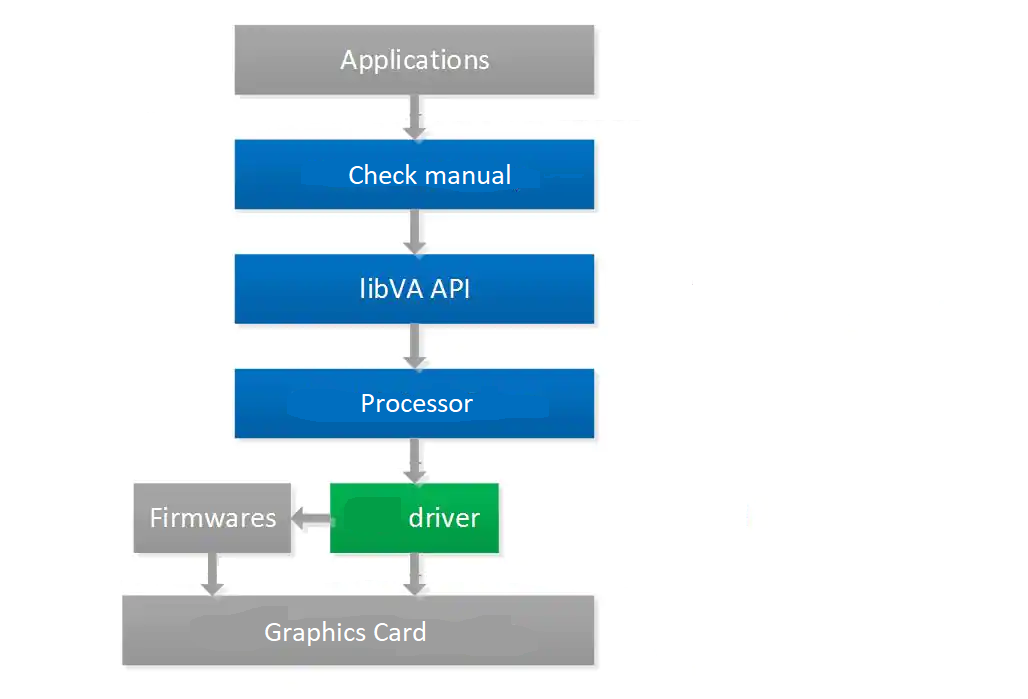arrow: (401, 318, 429, 370), (398, 433, 426, 484), (401, 205, 426, 257), (400, 546, 426, 595), (199, 548, 224, 597), (401, 93, 427, 140), (291, 505, 335, 531)
process: (117, 591, 599, 669), (231, 20, 600, 101), (230, 250, 598, 329), (231, 363, 599, 442), (230, 135, 598, 213), (325, 480, 504, 559), (128, 479, 294, 557)
text: (260, 617, 428, 649), (338, 45, 493, 78), (345, 161, 516, 189), (147, 501, 279, 532), (354, 272, 475, 303), (355, 389, 476, 419), (408, 502, 483, 532)
